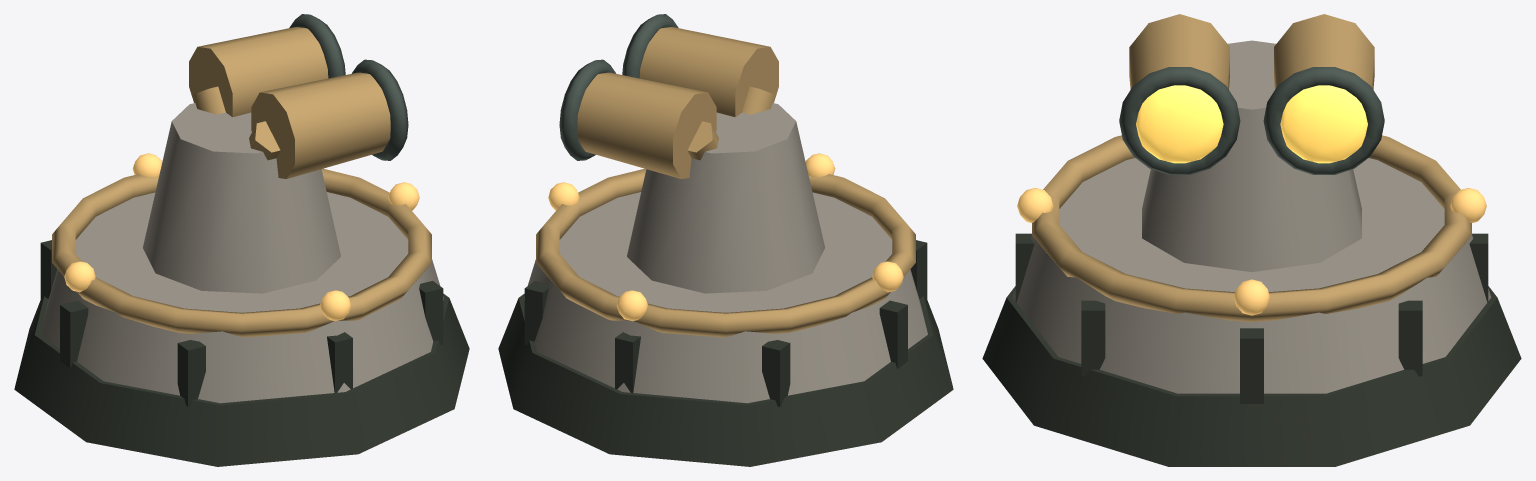
File: tower_laser_laserDouble.glb
The picture shows the model from 3 angles, left to right: view 1: azimuth 30°, elevation 25°; view 2: azimuth 150°, elevation 25°; view 3: azimuth 270°, elevation 25°; orthographic projection. The views are drawn at different scales.
Visible parts, largest first — view 1: stone_1, foot_0, column_15, rim_2, lens_housing_17, lens_housing_21, focus_ring_18, mortar_6, mortar_7, focus_ring_22, mortar_5, mortar_4 (+7 smaller); view 2: stone_1, foot_0, column_15, rim_2, lens_housing_21, lens_housing_17, focus_ring_22, mortar_8, mortar_7, focus_ring_18, mortar_9, mortar_10 (+7 smaller); view 3: stone_1, foot_0, column_15, rim_2, lens_glass_19, lens_glass_23, focus_ring_18, focus_ring_22, lens_housing_17, lens_housing_21, mortar_3, mortar_4 (+6 smaller).
Part boxes in pixels (x1,y1,x2,y2): stone_1: (40, 192, 443, 403); foot_0: (14, 293, 469, 466); column_15: (143, 103, 340, 293); rim_2: (52, 168, 431, 337); lens_housing_17: (251, 72, 390, 178); lens_housing_21: (189, 27, 328, 117); focus_ring_18: (352, 59, 408, 160); mortar_6: (177, 340, 205, 406); mortar_7: (60, 300, 88, 368); focus_ring_22: (289, 14, 345, 78); mortar_5: (327, 332, 352, 393); mortar_4: (419, 281, 443, 345); stone_1: (524, 192, 927, 403); foot_0: (498, 293, 953, 466); column_15: (627, 103, 824, 293); rim_2: (536, 168, 915, 337); lens_housing_21: (577, 72, 716, 178); lens_housing_17: (639, 27, 778, 117); focus_ring_22: (559, 59, 615, 160); mortar_8: (762, 340, 790, 406); mortar_7: (879, 300, 907, 368); focus_ring_18: (622, 14, 678, 78); mortar_9: (615, 332, 640, 393); mortar_10: (524, 281, 548, 345); stone_1: (1012, 158, 1491, 393); foot_0: (982, 286, 1521, 466); column_15: (1142, 40, 1361, 271); rim_2: (1032, 135, 1471, 322); lens_glass_19: (1136, 85, 1223, 163); lens_glass_23: (1280, 85, 1367, 163); focus_ring_18: (1119, 67, 1240, 174); focus_ring_22: (1263, 67, 1384, 174); lens_housing_17: (1129, 14, 1229, 89); lens_housing_21: (1274, 14, 1374, 89); mortar_3: (1240, 328, 1263, 403); mortar_4: (1081, 300, 1105, 376).
Bounding box in the file's own units: 0.5326 × 0.402 × 0.56.
